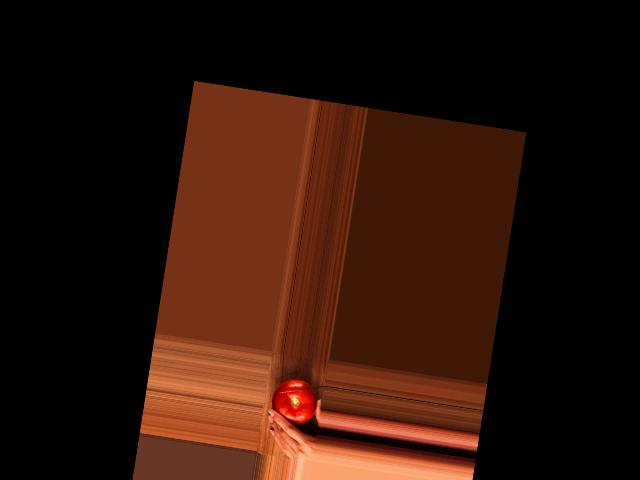tomato: (269, 377, 319, 427)
